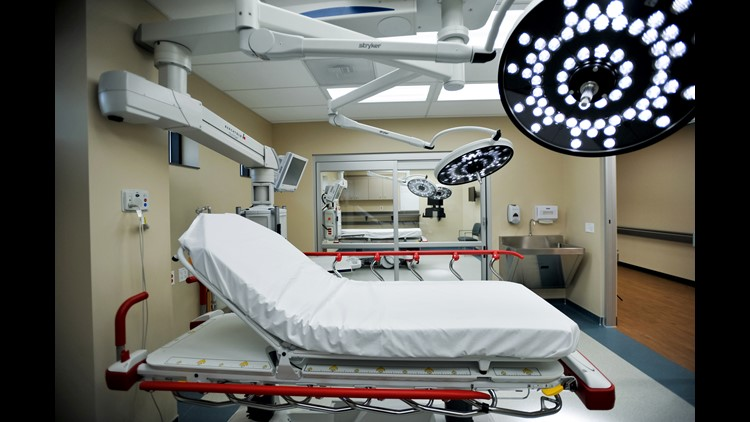bedside_monitor: (278, 151, 311, 193), (330, 183, 344, 202)
chair: (459, 223, 480, 258)
dispenser: (535, 206, 559, 223), (506, 204, 521, 225)
faucet: (529, 216, 535, 237)
hospital_bed: (114, 211, 623, 422)
hs: (333, 229, 427, 270)
sink: (499, 236, 585, 289)
surgical_light: (496, 1, 693, 156), (437, 140, 512, 187), (404, 177, 436, 199), (426, 187, 453, 201)
